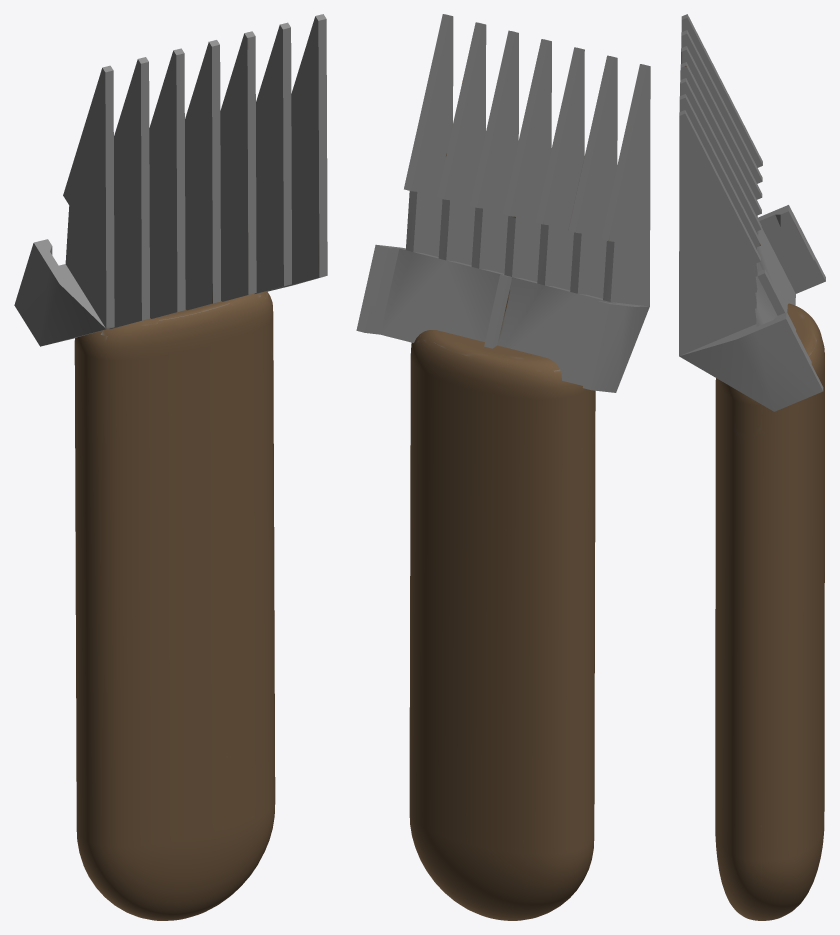
Rendered from Rasoio.2fbx.fbx.
The picture shows the model from 3 angles, left to right: view 1: azimuth 30°, elevation 25°; view 2: azimuth 150°, elevation 25°; view 3: azimuth 270°, elevation 25°; orthographic projection. The views are drawn at different scales.
Visible parts, largest first — view 1: Object_2; view 2: Object_2; view 3: Object_2.
Part boxes in pixels (bbox=[...]): Object_2: bbox=[14, 14, 327, 920]; Object_2: bbox=[356, 14, 650, 920]; Object_2: bbox=[679, 14, 825, 920].
Bounding box in the file's own units: 4.81 × 16.45 × 2.59.
